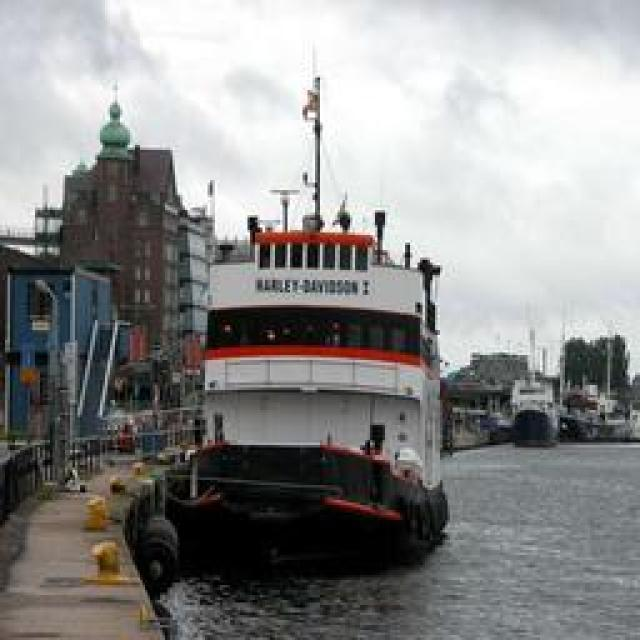ship2: (173, 75, 450, 563)
